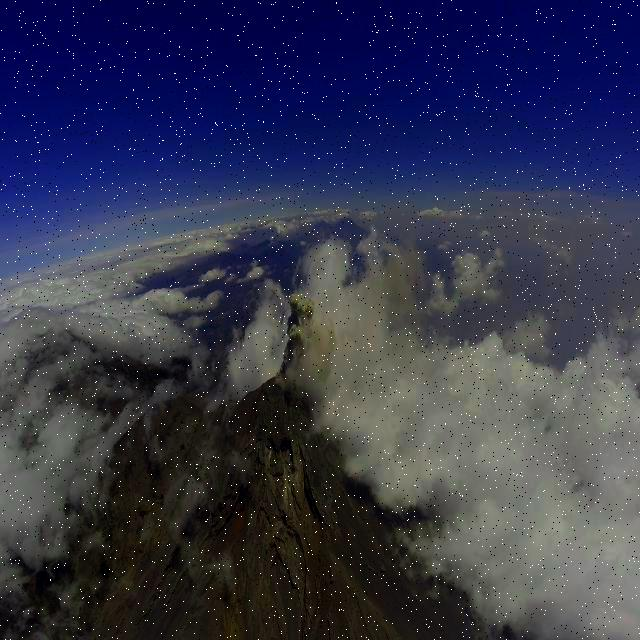Plume: (270, 291, 319, 392)
Summit: (234, 374, 310, 530)
